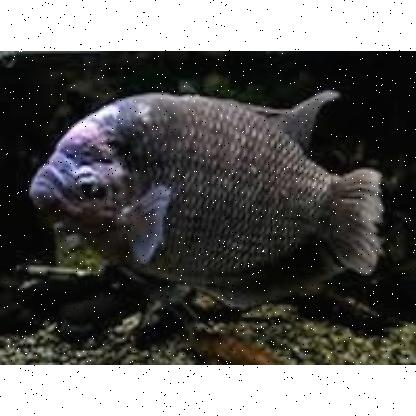gurame: (31, 87, 369, 299)
